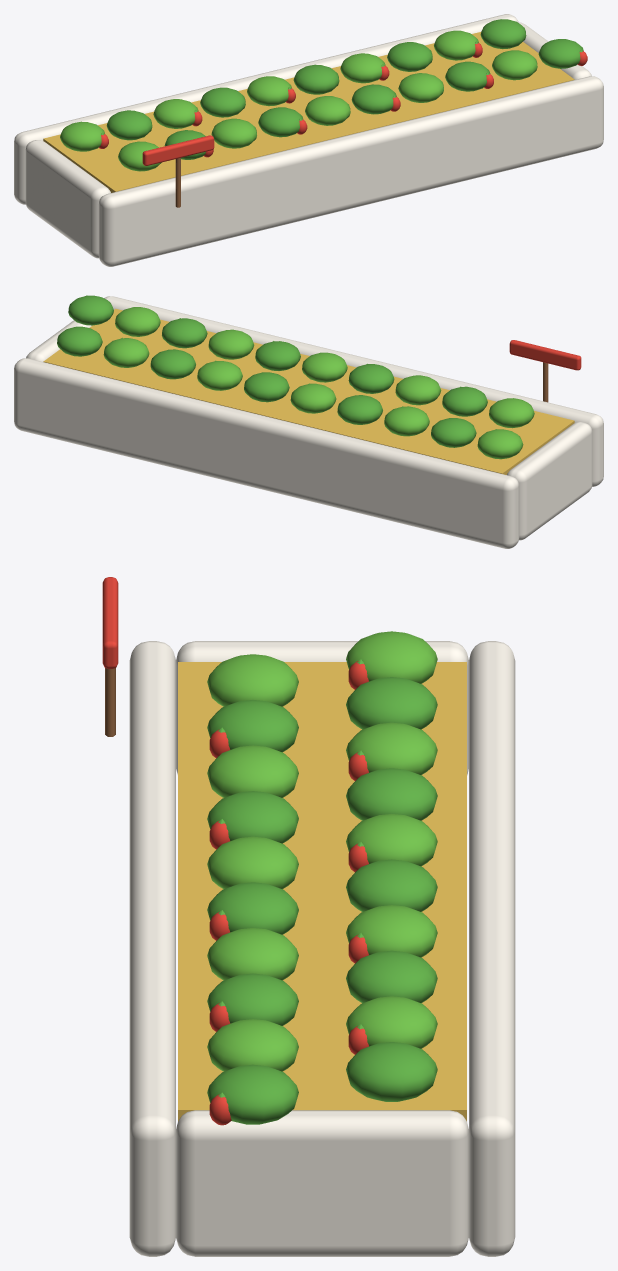
File: vegbed-berries.glb
3 views of the same model, one above another, from view 1: azimuth 30°, elevation 25°; view 2: azimuth 150°, elevation 25°; view 3: azimuth 270°, elevation 25° (orthographic). The views are drawn at different scales.
Size of the model in its own units: 3.03 by 0.66 by 1.07.
